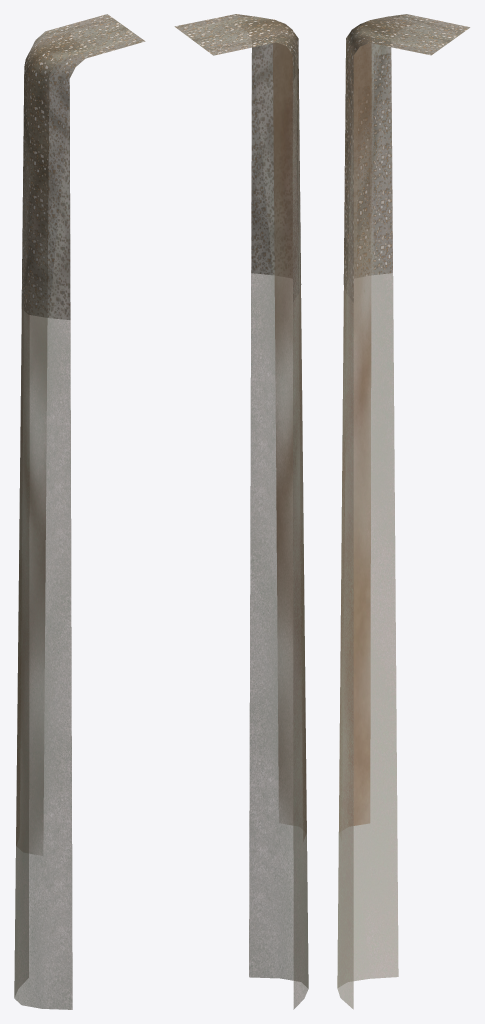
The model's file is 10xp_sandfall02.glb.
3 views of the same model, side by side, from view 1: azimuth 30°, elevation 25°; view 2: azimuth 210°, elevation 25°; view 3: azimuth 330°, elevation 25° (orthographic). The views are drawn at different scales.
Visible parts, largest first — view 1: 10xp_sandfall02; view 2: 10xp_sandfall02; view 3: 10xp_sandfall02.
Boxes of the visible parts, x1=… form: 10xp_sandfall02: x1=14, y1=14, x2=145, y2=1009; 10xp_sandfall02: x1=174, y1=14, x2=308, y2=1009; 10xp_sandfall02: x1=337, y1=14, x2=470, y2=1009.
Bounding box in the file's own units: 8.2 × 68.89 × 5.75.
4 materials, 4 textured.
